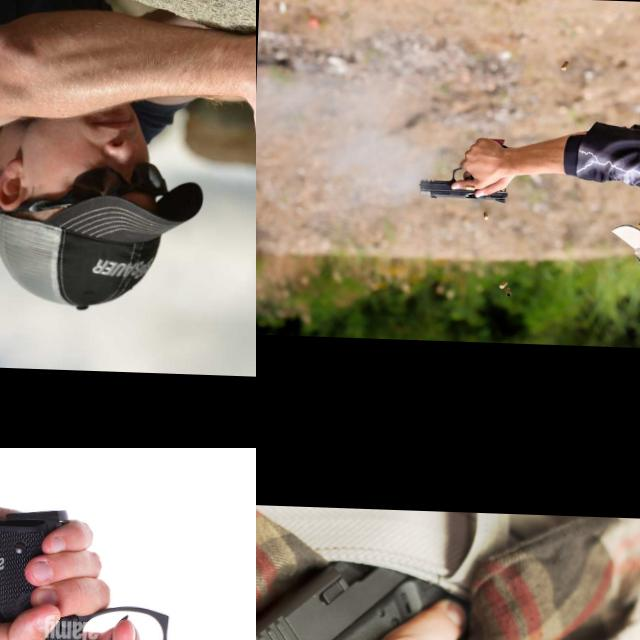handgun: (0, 498, 256, 640), (256, 542, 457, 640), (416, 160, 511, 204)
